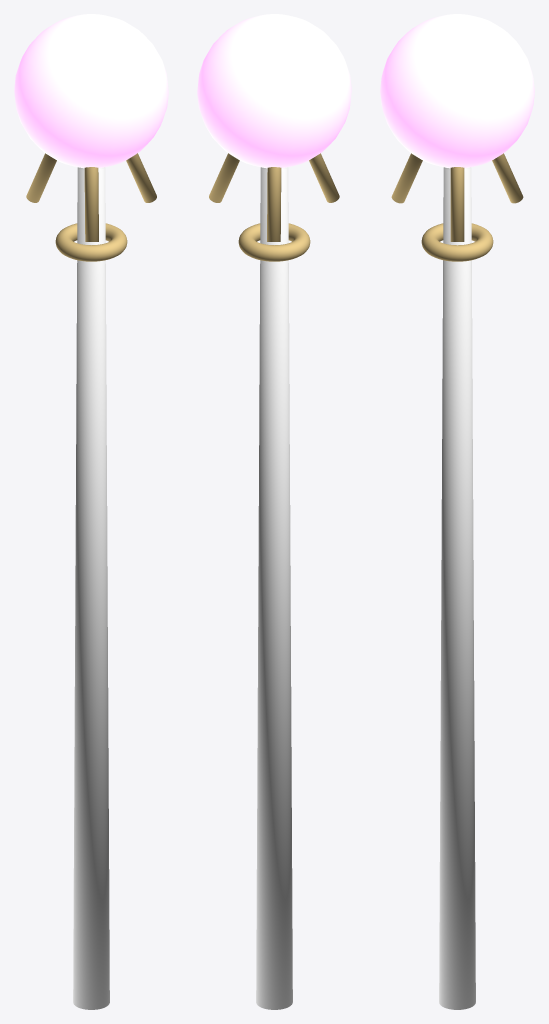
File: asa_4.glb
3 renders of one model, left to right at view 1: azimuth 30°, elevation 25°; view 2: azimuth 150°, elevation 25°; view 3: azimuth 270°, elevation 25°, orthographic.
Visible parts, largest first — view 1: Cone, Sphere, Torus, Cone.003, Cone.001, Cone.002; view 2: Cone, Sphere, Torus, Cone.002, Cone.001, Cone.003; view 3: Cone, Sphere, Torus, Cone.001, Cone.002, Cone.003.
Part boxes in pixels (<box>): Cone: <box>73,167,109,1009</box>; Sphere: <box>14,14,168,168</box>; Torus: <box>55,223,127,261</box>; Cone.003: <box>84,167,98,241</box>; Cone.001: <box>126,153,156,202</box>; Cone.002: <box>26,153,56,202</box>; Cone: <box>256,167,292,1009</box>; Sphere: <box>197,14,351,168</box>; Torus: <box>238,223,310,261</box>; Cone.002: <box>267,167,281,241</box>; Cone.001: <box>209,153,239,202</box>; Cone.003: <box>309,153,339,202</box>; Cone: <box>439,167,475,1009</box>; Sphere: <box>380,14,534,168</box>; Torus: <box>421,223,493,261</box>; Cone.001: <box>450,167,464,241</box>; Cone.002: <box>492,153,523,203</box>; Cone.003: <box>391,153,422,203</box>.
Size of the model in its own units: 0.336 by 2.35 by 0.336.
